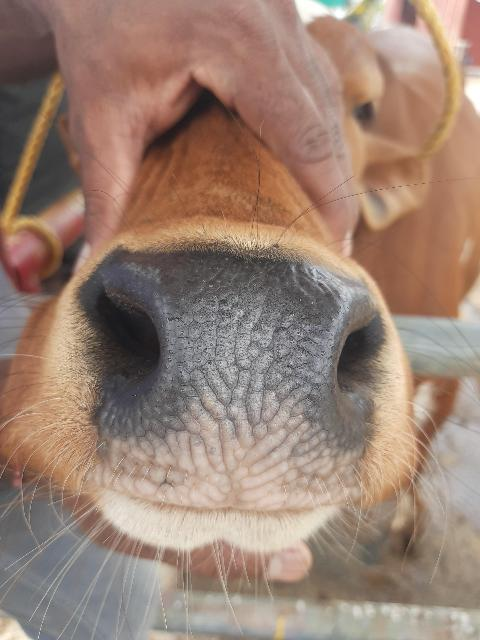Muzzle: (140, 260, 342, 492)
